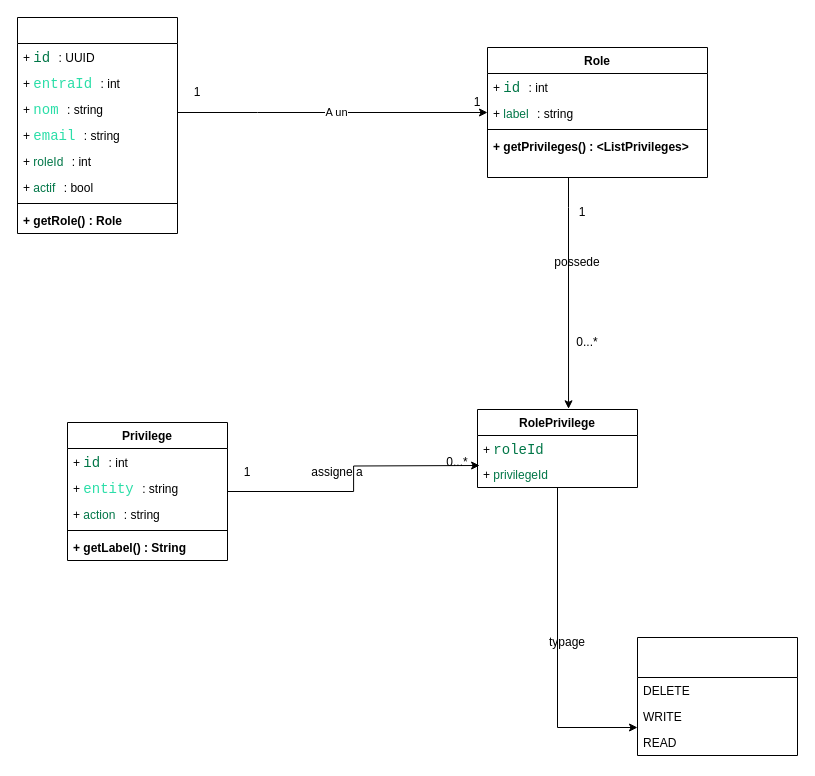
Image size: 815x776. Some labels were removed from this diagram. The shapes that lost their labels are listed below. From the top down, each one's box as (x1, y1, x2, y2) in pixels, then its label:
(16, 16, 178, 234): User
(636, 636, 798, 756): <<enumeration>> Action
